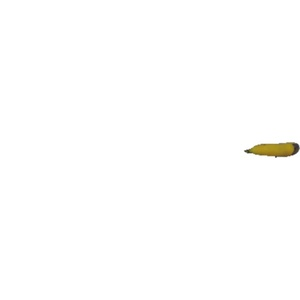banana: (244, 141, 298, 159)
